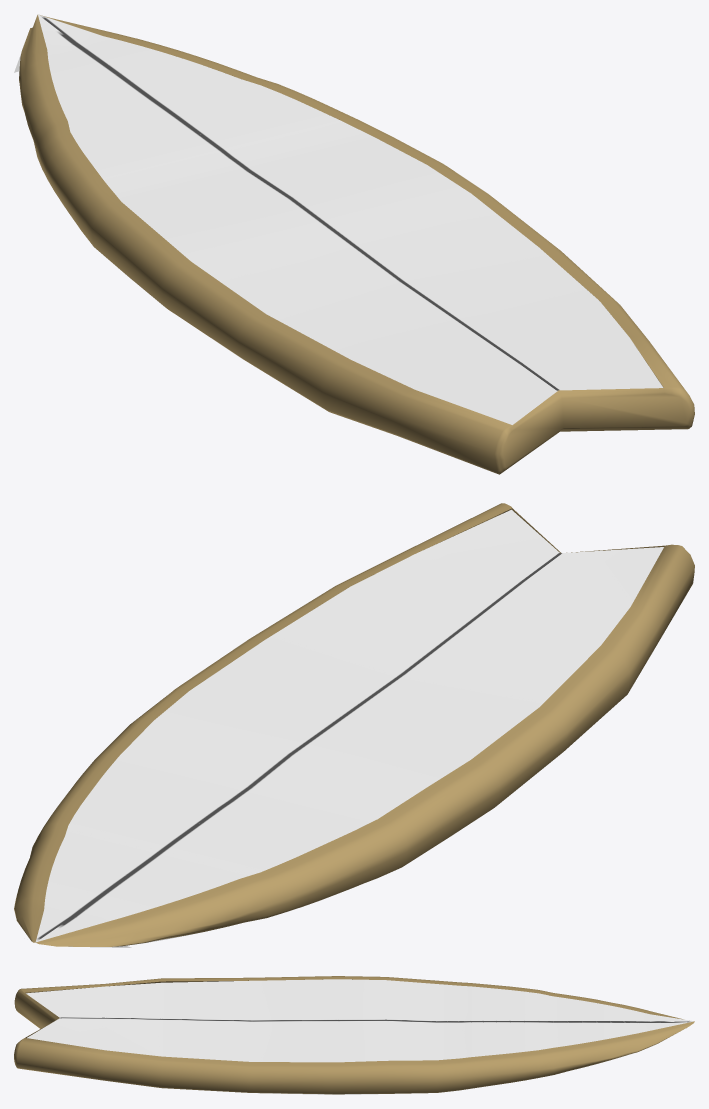
Rendered from surfboart-uno.glb.
The picture shows the model from 3 angles, top to bottom: view 1: azimuth 30°, elevation 25°; view 2: azimuth 150°, elevation 25°; view 3: azimuth 270°, elevation 25°; orthographic projection. The views are drawn at different scales.
Parts seen in each view (by area): view 1: Plane.001, Plane; view 2: Plane.001, Plane; view 3: Plane.001, Plane.
Part boxes in pixels (left/top/right/bottom): Plane.001: left=38, top=14, right=663, bottom=424; Plane: left=19, top=15, right=694, bottom=474; Plane.001: left=36, top=509, right=663, bottom=942; Plane: left=14, top=503, right=694, bottom=946; Plane.001: left=26, top=979, right=693, bottom=1062; Plane: left=14, top=976, right=694, bottom=1094.
Size of the model in its own units: 2.78 by 0.4287 by 8.04.
3 materials, 2 textured.
